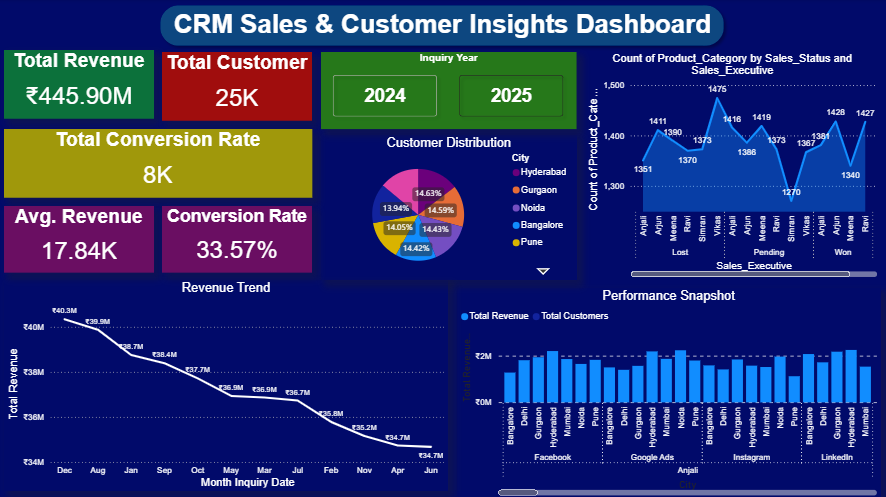

This screenshot's page, from the dashboard's own definition file:
{"tool":"powerbi","page":{"name":"Page 1","canvas":[1280,720],"ordinal":0},"visuals":[{"type":"shape","box":[223.2,0,829.4,76.3],"z":1},{"type":"textbox","box":[34.6,10.1,1208.2,63.4],"z":2},{"type":"cardVisual","title":"Total Revenue","fields":{"Data":["CRM_Data.Total Revenue"]},"box":[7.2,73.4,216,99.4],"z":3},{"type":"cardVisual","title":"Total Customer","fields":{"Data":["CRM_Data.Total Customers"]},"box":[234.7,76.3,216,99.4],"z":4},{"type":"cardVisual","title":"Total Conversion Rate","fields":{"Data":["CRM_Data.Total Conversions"]},"box":[7.2,187.2,443.5,99.4],"z":5},{"type":"cardVisual","title":"Avg. Revenue","fields":{"Data":["CRM_Data.Avg Revenue"]},"box":[7.2,298.1,216,96.5],"z":6},{"type":"cardVisual","title":"Conversion Rate","fields":{"Data":["CRM_Data.Conversion Rate"]},"box":[234.7,298.1,216,96.5],"z":7},{"type":"advancedSlicerVisual","fields":{"Values":["CRM_Data.Inquiry Year"]},"box":[463,76.4,367.9,110.7],"z":8},{"type":"lineChart","title":"Revenue Trend","fields":{"Category":["CRM_Data.Month Inquiry Date"],"Y":["CRM_Data.Total Revenue"]},"box":[7.8,405.4,639.2,304],"z":10},{"type":"pieChart","title":"Customer Distribution","fields":{"Category":["CRM_Data.City"],"Y":["CRM_Data.Total Customers"]},"box":[463,196.4,367.9,208.9],"z":11},{"type":"columnChart","title":"Performance Snapshot","fields":{"Category":["CRM_Data.Sales_Executive","CRM_Data.Lead_Source","CRM_Data.City"],"Y":["CRM_Data.Total Revenue","CRM_Data.Total Customers"]},"box":[659.5,416.3,609.6,304],"z":12},{"type":"areaChart","fields":{"Category":["CRM_Data.Sales_Status","CRM_Data.Sales_Executive"],"Y":["CountNonNull(CRM_Data.Product_Category)"]},"box":[841.9,76.4,427.2,329],"z":13}]}

Visuals, with their boxes in screenshot pixels (x1, y1, x2, y2), scaled from the page's 1280x720 canvas onto the 886x497 screenshot:
shape: [154,0,729,53]
textbox: [24,7,860,51]
"Total Revenue" cardVisual: [5,51,154,119]
"Total Customer" cardVisual: [162,53,312,121]
"Total Conversion Rate" cardVisual: [5,129,312,198]
"Avg. Revenue" cardVisual: [5,206,154,272]
"Conversion Rate" cardVisual: [162,206,312,272]
advancedSlicerVisual - CRM_Data.Inquiry Year: [320,53,575,129]
"Revenue Trend" lineChart: [5,280,448,490]
"Customer Distribution" pieChart: [320,136,575,280]
"Performance Snapshot" columnChart: [456,287,878,496]
areaChart - CRM_Data.Sales_Status x CRM_Data.Sales_Executive: [583,53,878,280]
